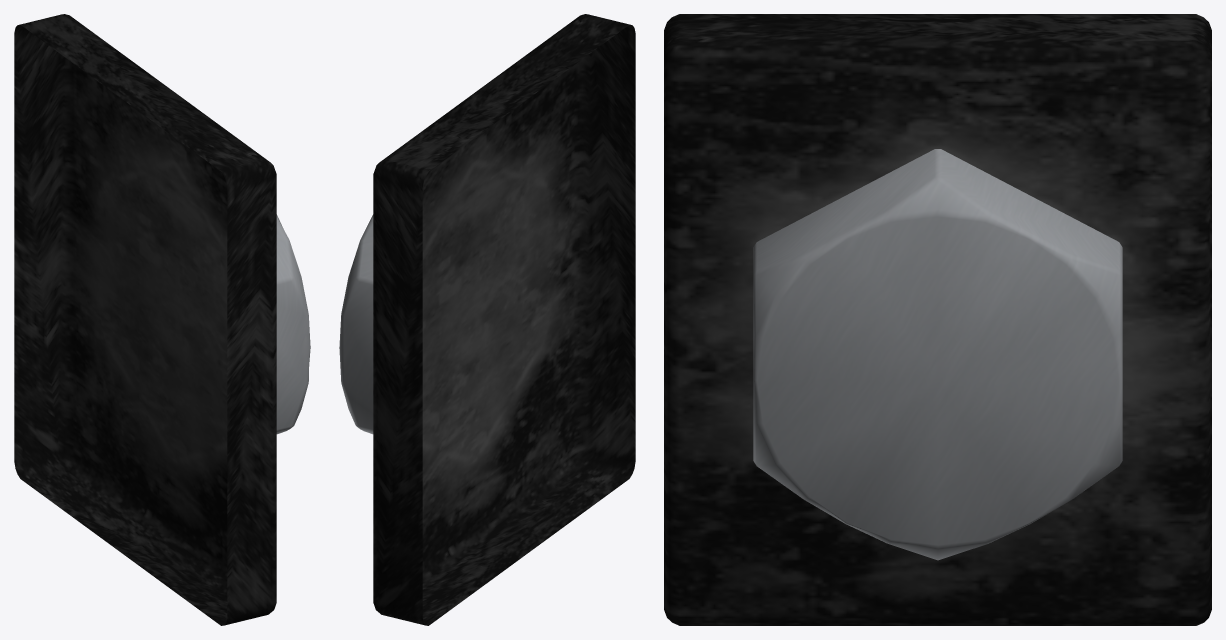
The model's file is screw2.gltf.
3 views of the same model, side by side, from view 1: azimuth 30°, elevation 25°; view 2: azimuth 150°, elevation 25°; view 3: azimuth 270°, elevation 25° (orthographic). The views are drawn at different scales.
Visible parts, largest first — view 1: screw; view 2: screw; view 3: screw.
Boxes of the visible parts, <box> form: screw: <box>14,14,310,625</box>; screw: <box>339,14,635,625</box>; screw: <box>664,14,1211,625</box>.
Size of the model in its own units: 0.00619 by 0.0225 by 0.0191.
Materials: 1 (1 with a texture image).
